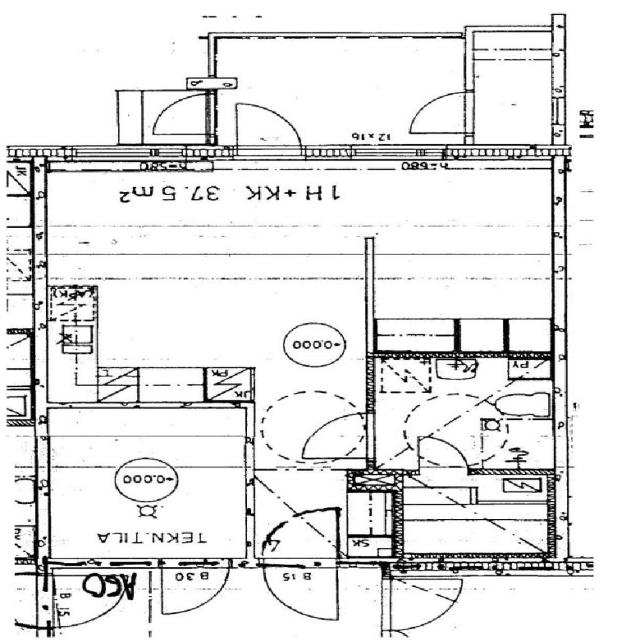door: (264, 507, 336, 566), (264, 558, 336, 616), (236, 99, 302, 159), (162, 557, 228, 613), (302, 413, 375, 457), (406, 92, 474, 133), (418, 433, 467, 474)
